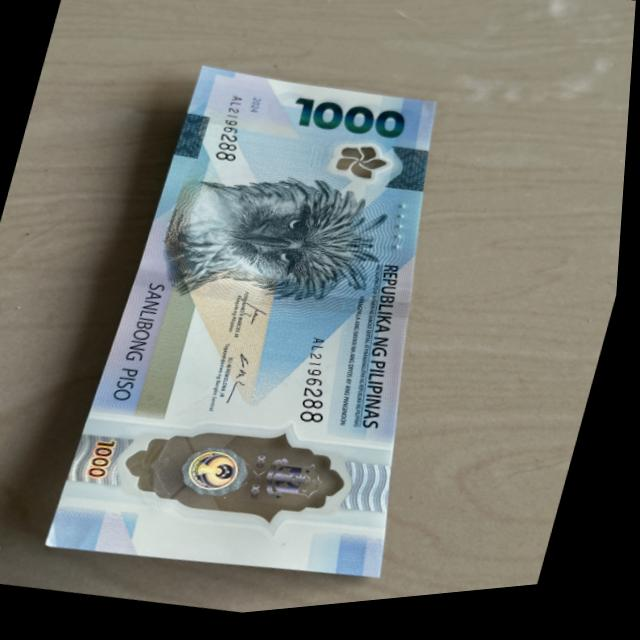clear_window: (118, 402, 358, 552)
eagle: (152, 153, 392, 332)
sampaguita: (328, 145, 390, 190)
